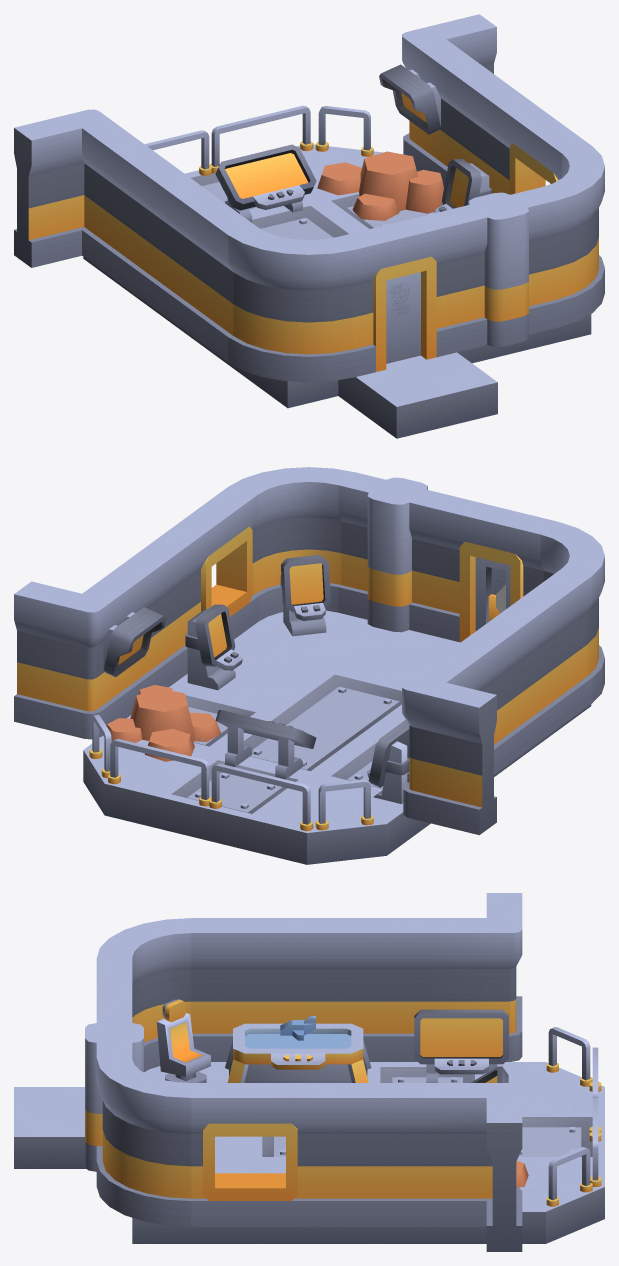
The model's file is spacestation.glb.
3 renders of one model, top to bottom at view 1: azimuth 30°, elevation 25°; view 2: azimuth 150°, elevation 25°; view 3: azimuth 270°, elevation 25°, orthographic.
Parts seen in each view (by area): view 1: wall-corner-round-banner.001, wall-pillar-banner, wall-corner-banner, wall-door-banner, wall-banner, wall-banner.002, floor.002, wall-corner-round-banner, wall-corner-banner.001, wall-banner.001, rocks, computer-wide (+13 smaller); view 2: wall-corner-banner.001, wall-pillar-banner, wall-corner-banner, wall-corner-round-banner, wall-door-banner, wall-banner, floor-corner, wall-window-banner, wall-banner.001, floor-panel.003, wall-banner.002, floor-panel-end (+19 smaller); view 3: wall-banner.001, wall-window-banner, wall-corner-banner.001, wall-banner.002, wall-banner, wall-corner-round-banner, wall-corner-banner, table-display, wall-corner-round-banner.001, computer-screen, floor.002, floor-corner.001 (+16 smaller).
Boxes of the visible parts, x1,y1,x2,y2 form: wall-corner-round-banner.001: (228,228,355,382); wall-pillar-banner: (440,187,558,352); wall-corner-banner: (14,109,141,276); wall-door-banner: (338,212,456,376); wall-banner: (169,185,258,362); wall-banner.002: (111,142,199,319); floor.002: (338,352,497,438); wall-corner-round-banner: (541,146,604,327); wall-corner-banner.001: (402,14,496,187); wall-banner.001: (445,61,533,193); rocks: (317,151,443,220); computer-wide: (215,144,316,222); wall-corner-banner.001: (14,572,141,739); wall-pillar-banner: (338,472,456,637); wall-corner-banner: (402,654,496,835); wall-corner-round-banner: (228,467,355,621); wall-door-banner: (439,497,557,642); wall-banner: (504,568,592,745); floor-corner: (256,778,415,864); wall-window-banner: (170,487,258,639); wall-banner.001: (111,529,199,688); floor-panel.003: (155,753,314,852); wall-banner.002: (445,611,533,774); floor-panel-end: (272,668,402,735); wall-banner.001: (309,1083,427,1226); wall-window-banner: (191,1083,309,1226); wall-corner-banner.001: (427,1083,522,1251); wall-banner.002: (309,918,427,1061); wall-banner: (191,918,309,1061); wall-corner-round-banner: (96,1058,191,1226); wall-corner-banner: (427,893,522,1061); table-display: (225,1023,371,1082); wall-corner-round-banner.001: (97,918,191,1071); computer-screen: (414,1009,508,1082); floor.002: (14,1087,86,1168); floor-corner.001: (519,1162,604,1243).
Bounding box in the file's own units: 9.2 × 3.01 × 10.
Materials: 1 (1 with a texture image).
